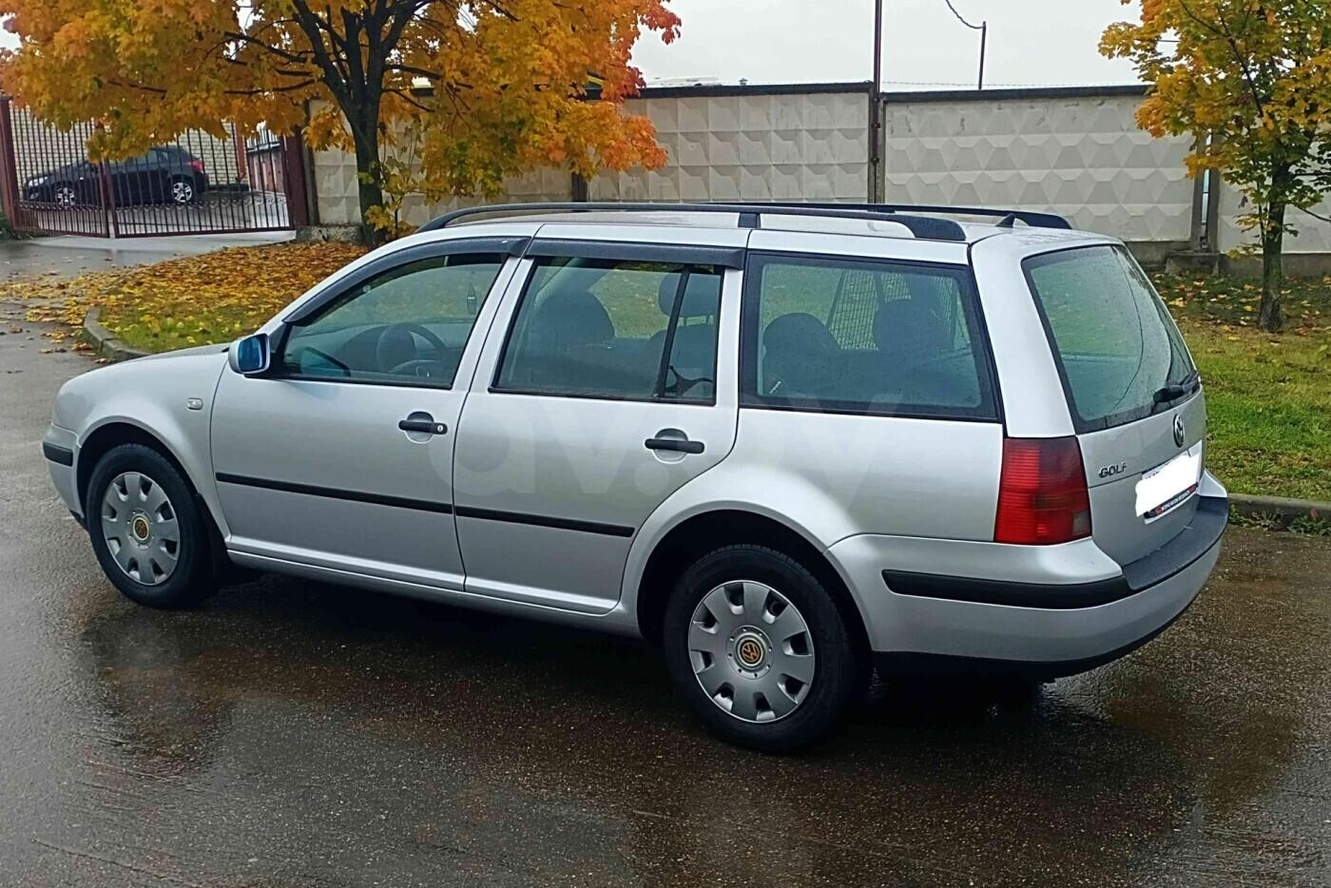Golf_1997-2006: (41, 205, 1236, 748)
